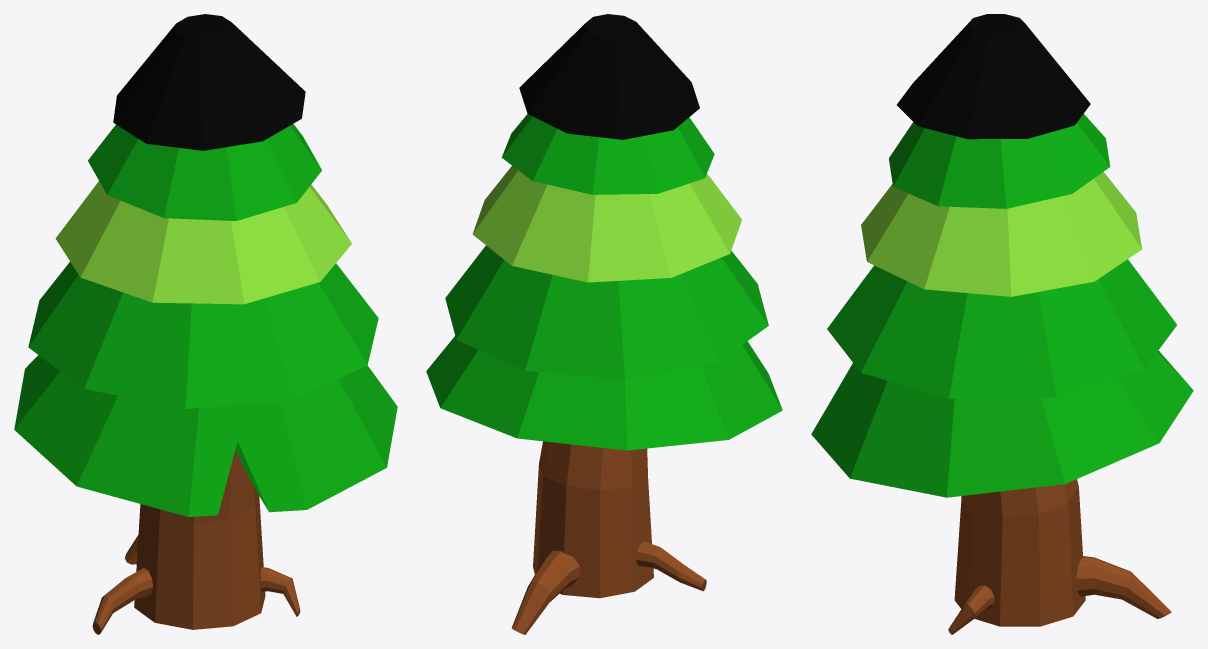
File: low poly tree.fbx
3 views of the same model, side by side, from view 1: azimuth 30°, elevation 25°; view 2: azimuth 150°, elevation 25°; view 3: azimuth 270°, elevation 25° (orthographic). The views are drawn at different scales.
Parts seen in each view (by area): view 1: Cylinder.003; view 2: Cylinder.003; view 3: Cylinder.003.
Boxes of the visible parts, <box> form: Cylinder.003: <box>14,14,397,634</box>; Cylinder.003: <box>426,14,782,634</box>; Cylinder.003: <box>811,14,1193,634</box>.
Bounding box in the file's own units: 623 × 1099 × 647.
